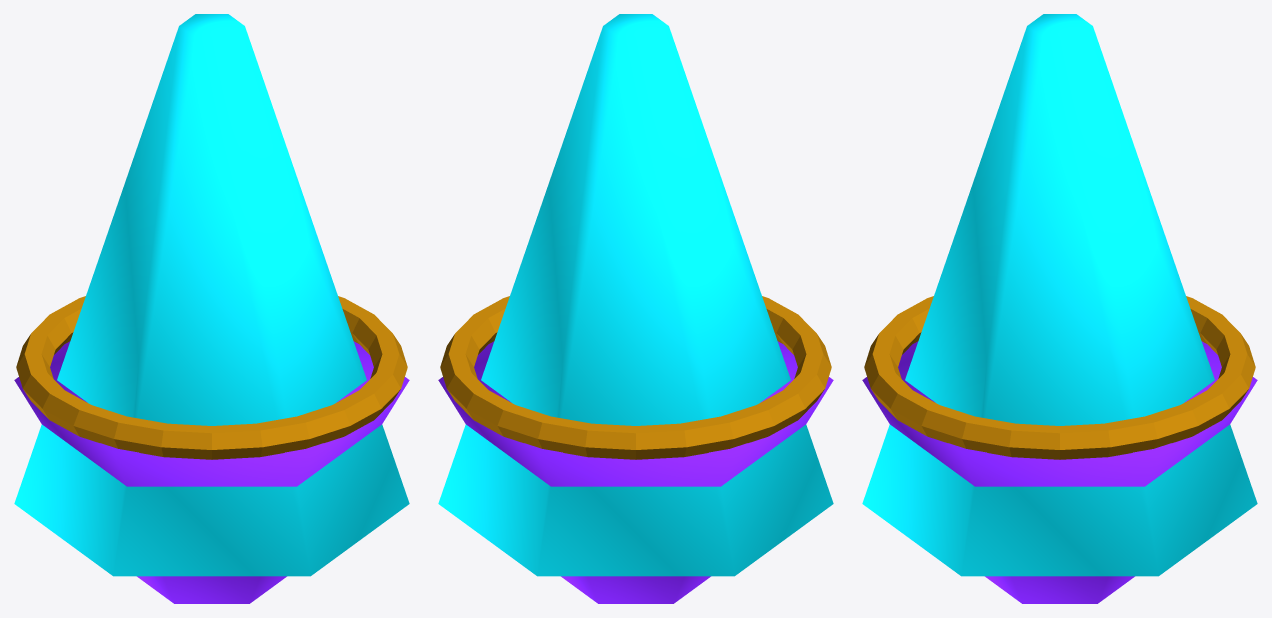
The model's file is evolution-stone.glb.
3 views of the same model, side by side, from view 1: azimuth 30°, elevation 25°; view 2: azimuth 150°, elevation 25°; view 3: azimuth 270°, elevation 25° (orthographic).
Visible parts, largest first — view 1: Advancement stone; view 2: Advancement stone; view 3: Advancement stone.
Part boxes in pixels (x1,y1,x2,y2): Advancement stone: (14, 14, 409, 603); Advancement stone: (438, 14, 833, 603); Advancement stone: (862, 14, 1257, 603).
Size of the model in its own units: 0.416 by 0.645 by 0.42.
